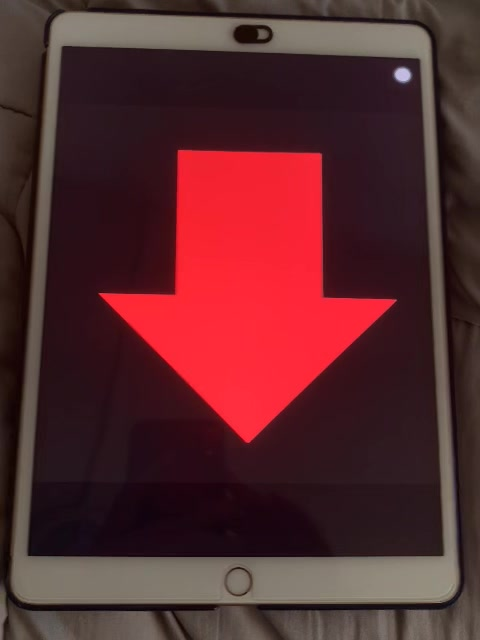down: (93, 142, 398, 449)
